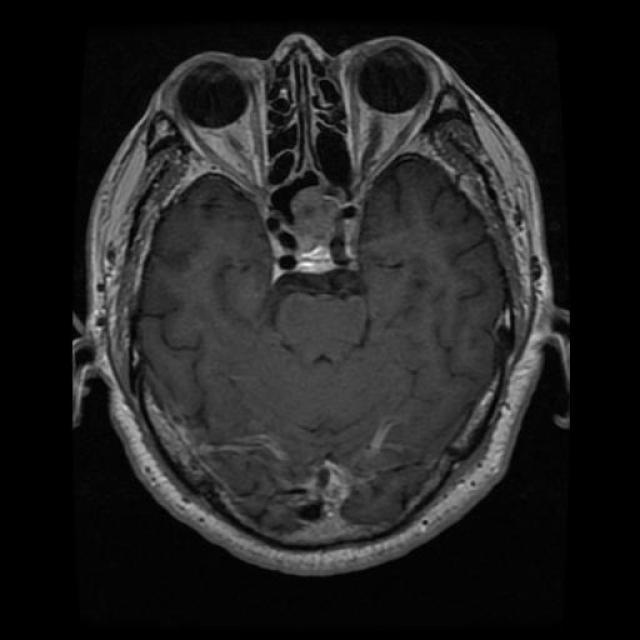pituitary: (274, 232, 364, 294)
